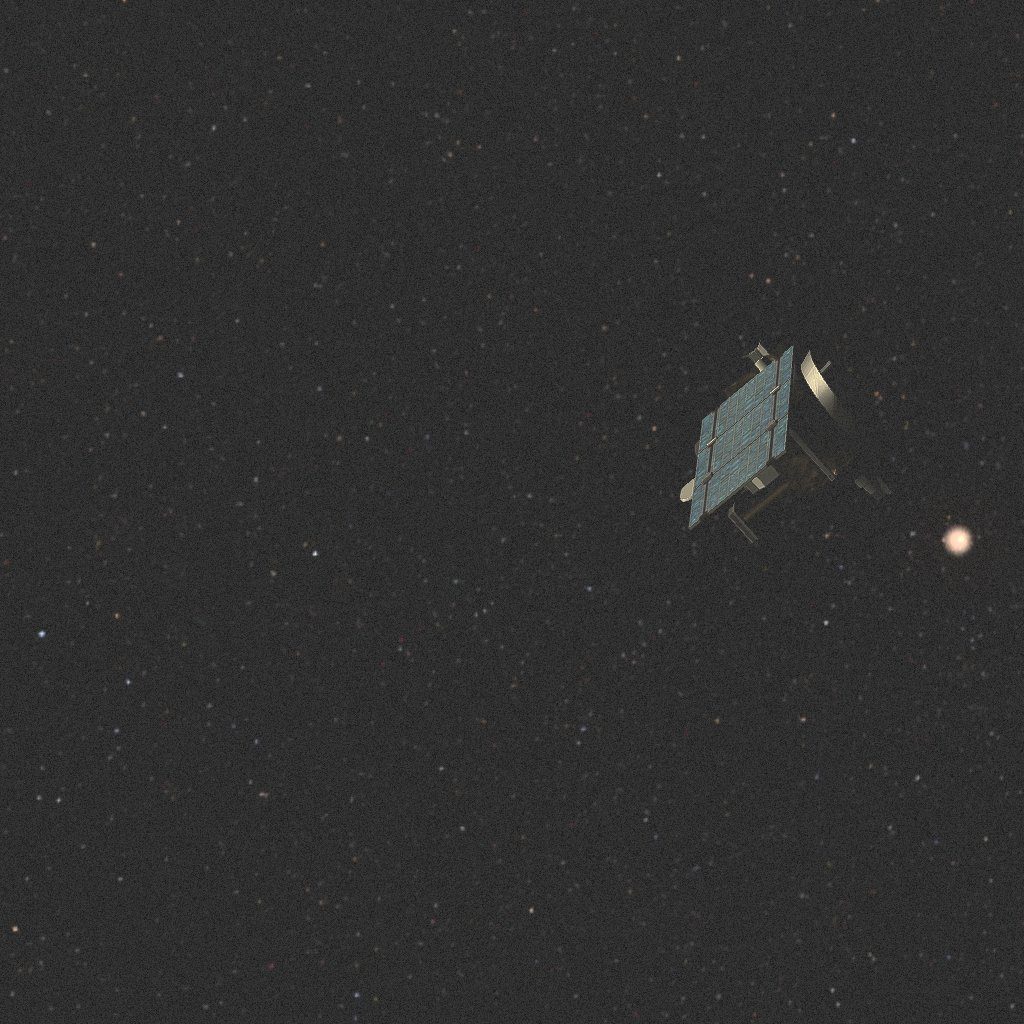earth_observation_sat_1: (680, 341, 893, 543)
